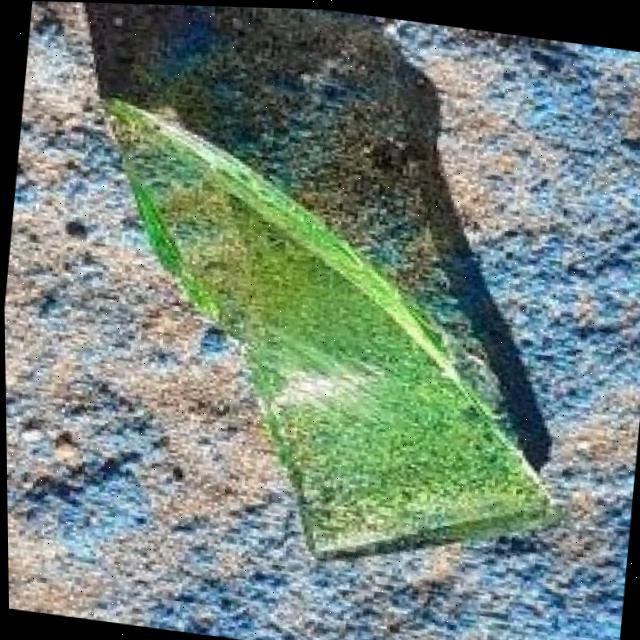Dry: (287, 369, 565, 588), (254, 265, 456, 446), (187, 219, 357, 337), (150, 161, 294, 282), (98, 97, 219, 211)
